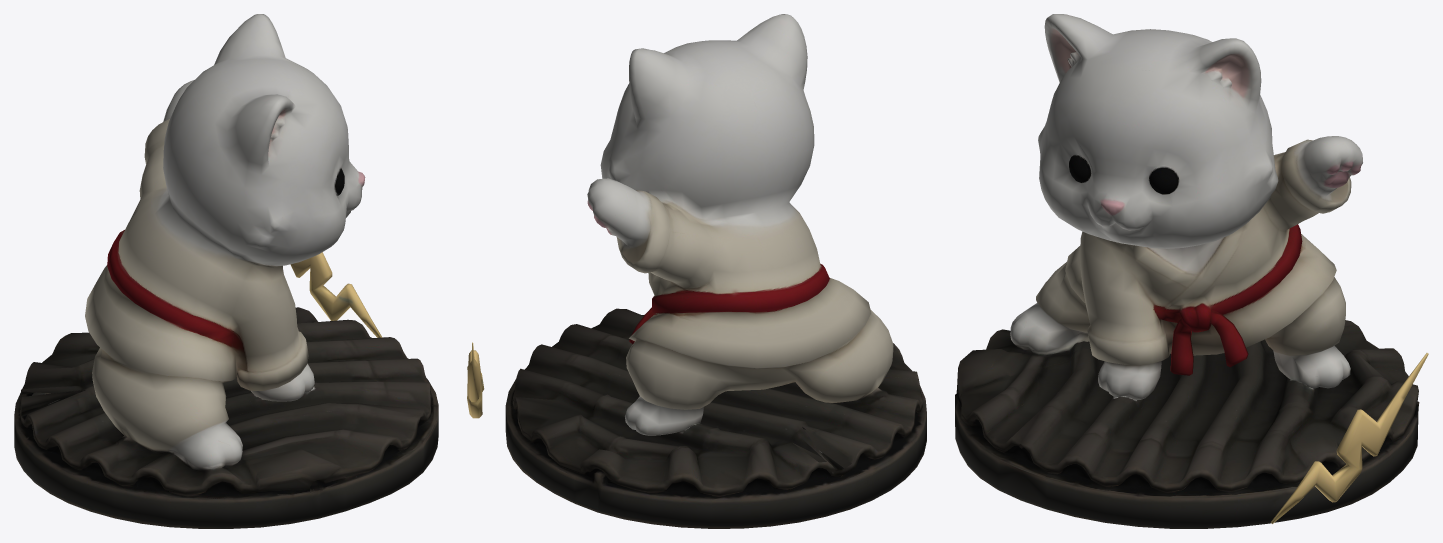
Rendered from figurine-v2-thunder-roof.glb.
3 views of the same model, side by side, from view 1: azimuth 30°, elevation 25°; view 2: azimuth 150°, elevation 25°; view 3: azimuth 270°, elevation 25° (orthographic). The views are drawn at different scales.
Parts seen in each view (by area): view 1: tripo_node_fbfaef08-2660-4b5b-8865-a97db08a2c03; view 2: tripo_node_fbfaef08-2660-4b5b-8865-a97db08a2c03; view 3: tripo_node_fbfaef08-2660-4b5b-8865-a97db08a2c03.
Boxes of the visible parts, x1,y1,x2,y2 form: tripo_node_fbfaef08-2660-4b5b-8865-a97db08a2c03: (14,14,438,528); tripo_node_fbfaef08-2660-4b5b-8865-a97db08a2c03: (467,14,926,528); tripo_node_fbfaef08-2660-4b5b-8865-a97db08a2c03: (955,14,1428,528).
Bounding box in the file's own units: 0.9832 × 0.9771 × 0.9728.
Materials: 1 (1 with a texture image).
